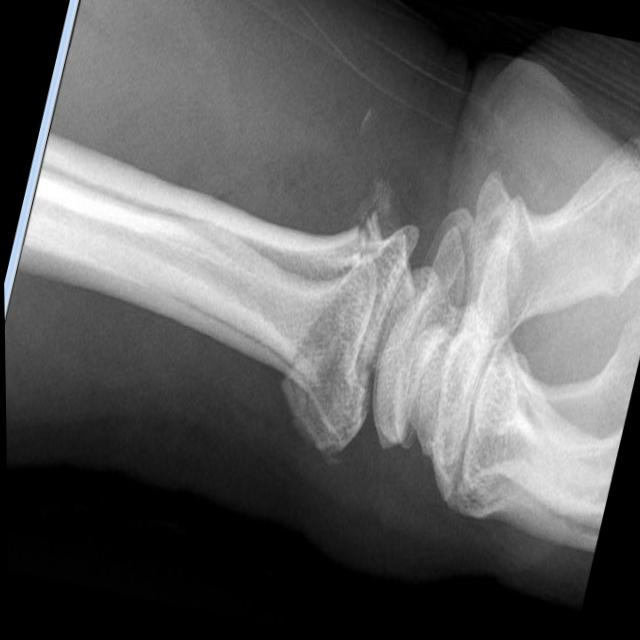fracture: (324, 200, 390, 294), (288, 281, 339, 373)
